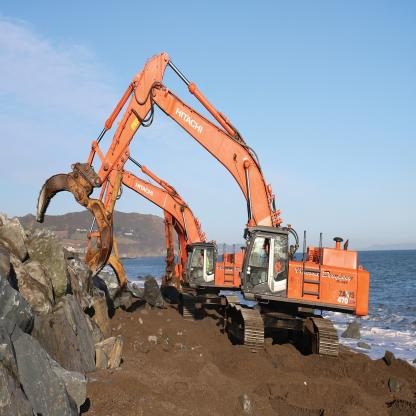excavator: (32, 40, 380, 368)
